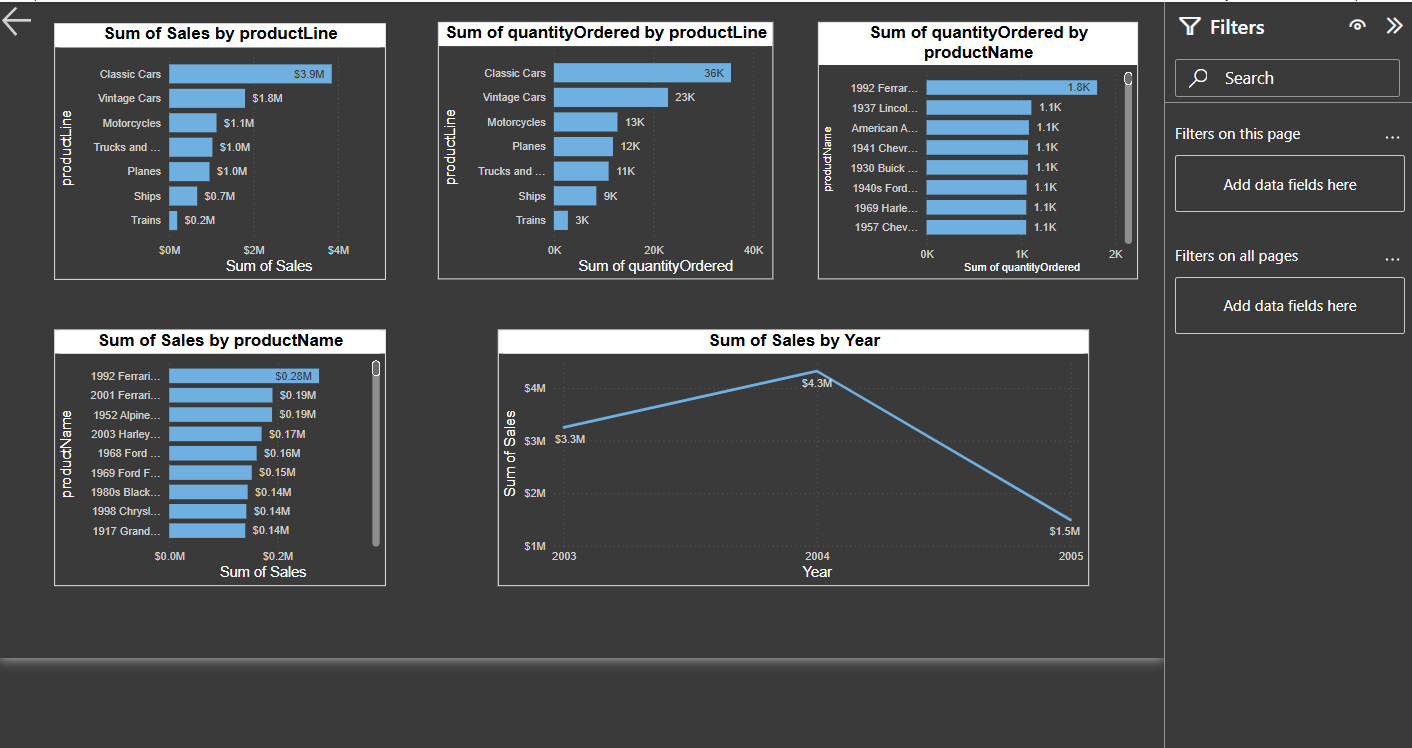

The page's visual inventory and layout, read from the dashboard file:
{"tool":"powerbi","page":{"name":"Page 2","canvas":[1280,720],"ordinal":1},"visuals":[{"type":"actionButton","box":[0,0,52.1,42.5],"z":0},{"type":"clusteredBarChart","fields":{"Category":["products.productLine"],"Y":["Sum(order details.Sales)"]},"box":[61.7,23.3,363.6,281.3],"z":1000},{"type":"clusteredBarChart","fields":{"Y":["Sum(order details.quantityOrdered)"],"Category":["products.productLine"]},"box":[483,22,367.8,282.7],"z":2000},{"type":"clusteredBarChart","fields":{"Y":["Sum(order details.quantityOrdered)"],"Category":["products.productName"]},"box":[900.2,22,351.3,282.7],"z":3000},{"type":"clusteredBarChart","fields":{"Y":["Sum(order details.Sales)"],"Category":["products.productName"]},"box":[61.7,359.5,363.6,281.3],"z":4000},{"type":"lineChart","fields":{"Category":["orders.orderDate.Variation.Date Hierarchy.Year","orders.orderDate.Variation.Date Hierarchy.Quarter","orders.orderDate.Variation.Date Hierarchy.Month","orders.orderDate.Variation.Date Hierarchy.Day"],"Y":["Sum(order details.Sales)"]},"box":[548.9,359.5,649.1,281.3],"z":5000}]}

Visuals, with their boxes on the page's 1280x720 design canvas (x1, y1, x2, y2). These are canvas units, not pixel positions in the 1412x748 screenshot, which may show the page scaled, cropped or inside an application window:
actionButton: <bbox>0, 0, 52, 42</bbox>
clusteredBarChart - products.productLine x Sum(order details.Sales): <bbox>62, 23, 425, 305</bbox>
clusteredBarChart - Sum(order details.quantityOrdered) x products.productLine: <bbox>483, 22, 851, 305</bbox>
clusteredBarChart - Sum(order details.quantityOrdered) x products.productName: <bbox>900, 22, 1252, 305</bbox>
clusteredBarChart - Sum(order details.Sales) x products.productName: <bbox>62, 360, 425, 641</bbox>
lineChart - orders.orderDate.Variation.Date Hierarchy.Year x orders.orderDate.Variation.Date Hierarchy.Quarter: <bbox>549, 360, 1198, 641</bbox>
